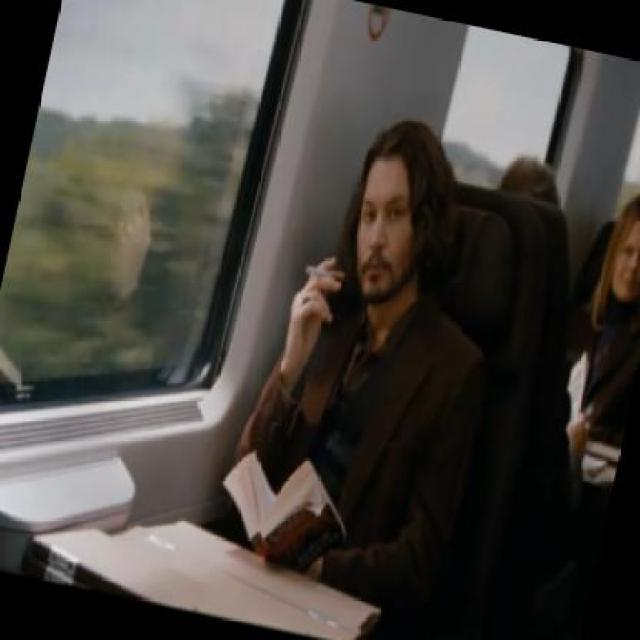cigarette: (302, 262, 347, 284)
